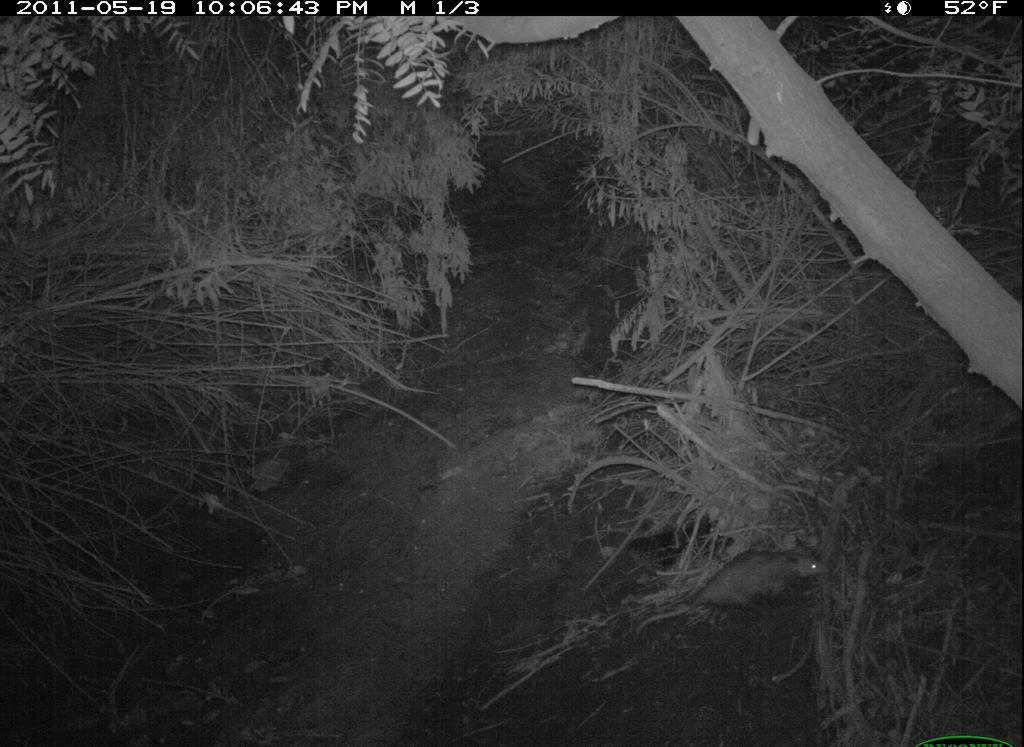opossum: (679, 541, 836, 633)
